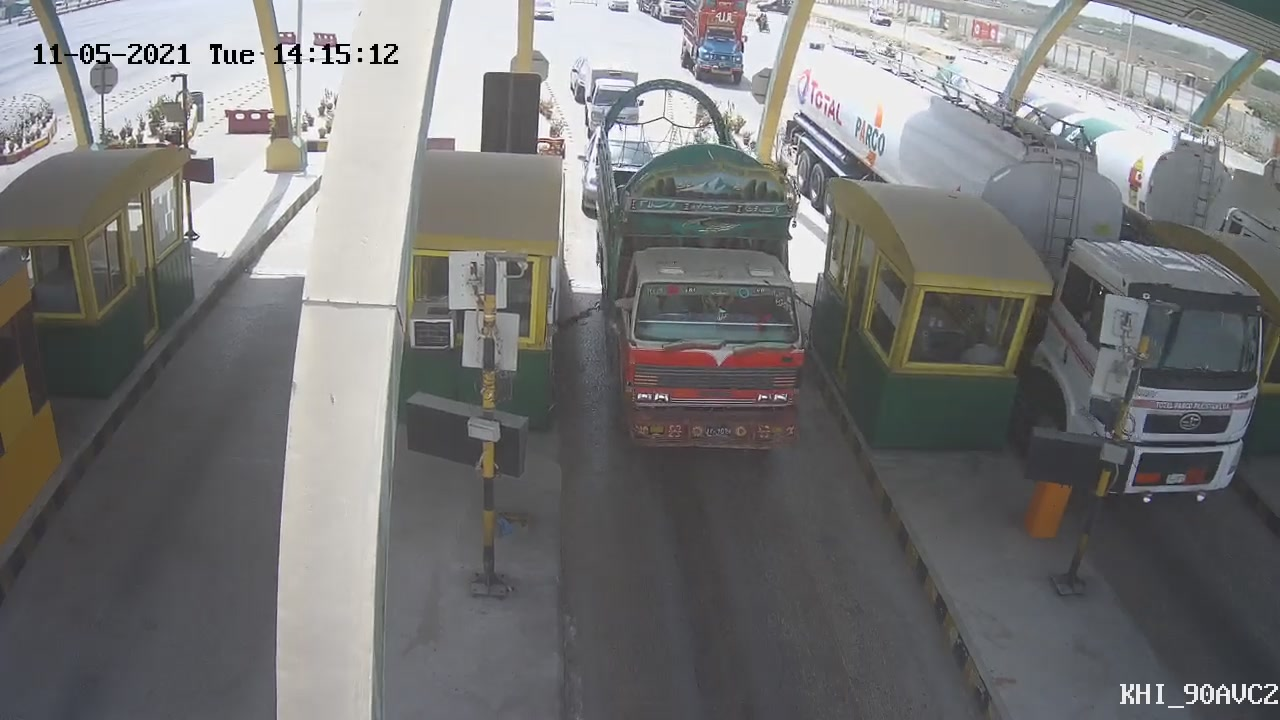F5: (584, 76, 829, 453)
